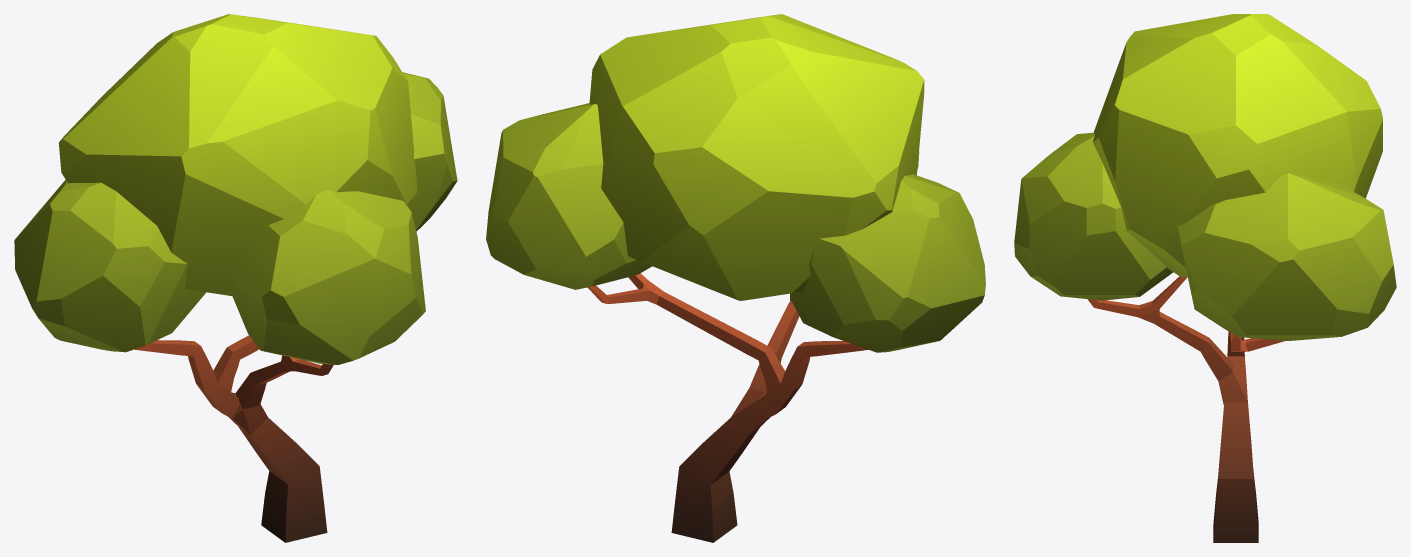
3 renders of one model, left to right at view 1: azimuth 30°, elevation 25°; view 2: azimuth 150°, elevation 25°; view 3: azimuth 270°, elevation 25°, orthographic. The views are drawn at different scales.
Visible parts, largest first — view 1: 1.001; view 2: 1.001; view 3: 1.001.
Boxes of the visible parts, bbox=[...] form: 1.001: bbox=[14, 14, 457, 542]; 1.001: bbox=[486, 14, 985, 542]; 1.001: bbox=[1014, 14, 1396, 542].
Bounding box in the file's own units: 4.33 × 4.82 × 3.45.
1 material, 1 textured.
